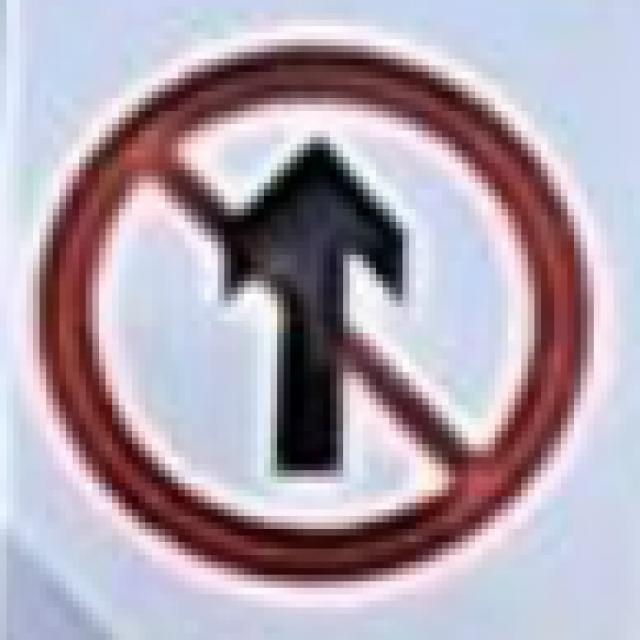Not that Direction: (42, 36, 582, 579)
